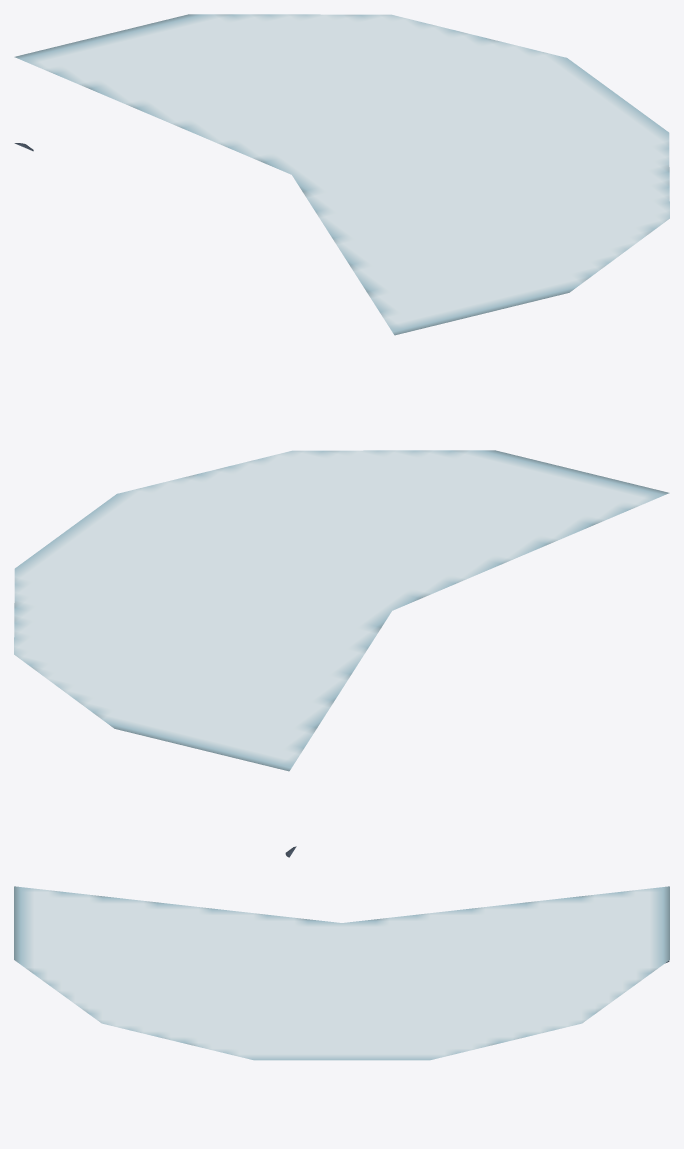
Rendered from flail_swing.fbx.
3 renders of one model, top to bottom at view 1: azimuth 30°, elevation 25°; view 2: azimuth 150°, elevation 25°; view 3: azimuth 270°, elevation 25°, orthographic. The views are drawn at different scales.
Visible parts, largest first — view 1: cylinder; view 2: cylinder; view 3: cylinder.
Boxes of the visible parts, bbox=[...] form: cylinder: bbox=[14, 14, 669, 335]; cylinder: bbox=[14, 450, 669, 857]; cylinder: bbox=[14, 886, 669, 1060].
Bounding box in the file's own units: 188 × 37.5 × 300.
Materials: 1 (1 with a texture image).
